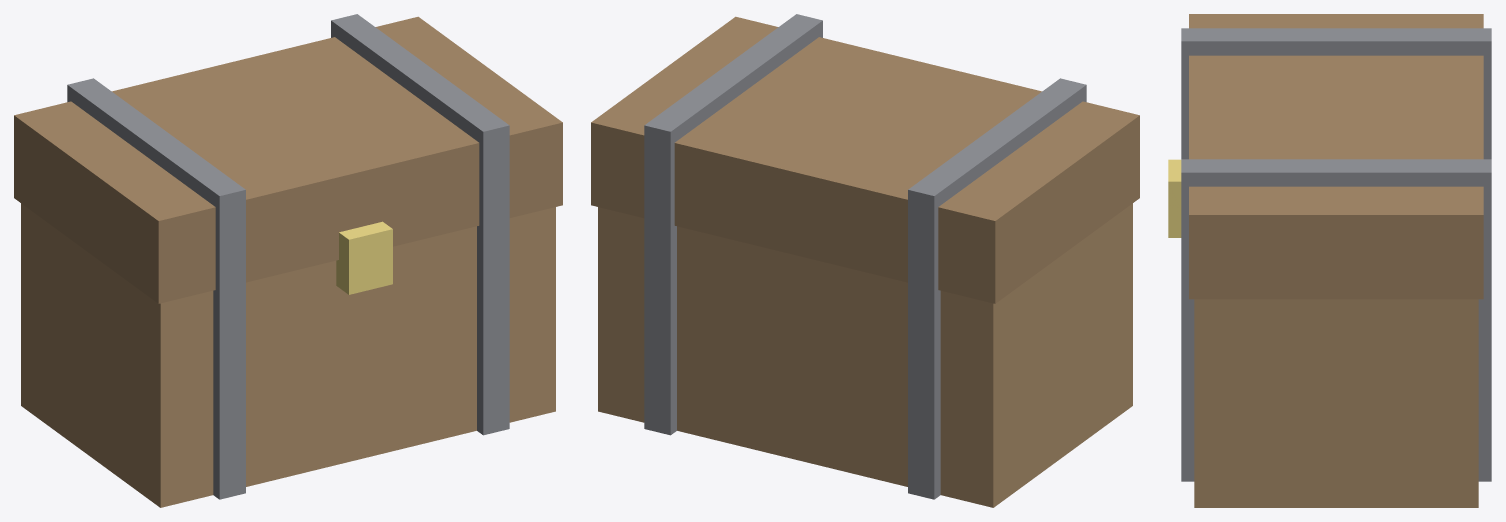
The model's file is sm_chest.glb.
3 renders of one model, left to right at view 1: azimuth 30°, elevation 25°; view 2: azimuth 150°, elevation 25°; view 3: azimuth 270°, elevation 25°, orthographic.
Visible parts, largest first — view 1: sm_chest; view 2: sm_chest; view 3: sm_chest.
Part boxes in pixels (x1=…): sm_chest: x1=14, y1=14, x2=562, y2=507; sm_chest: x1=591, y1=14, x2=1139, y2=507; sm_chest: x1=1168, y1=14, x2=1491, y2=507.
Bounding box in the file's own units: 0.92 × 0.66 × 0.625.
